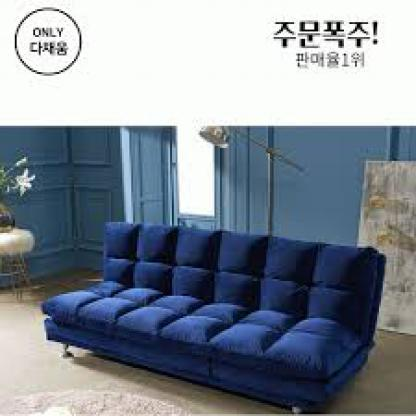sofa: (50, 220, 388, 414)
